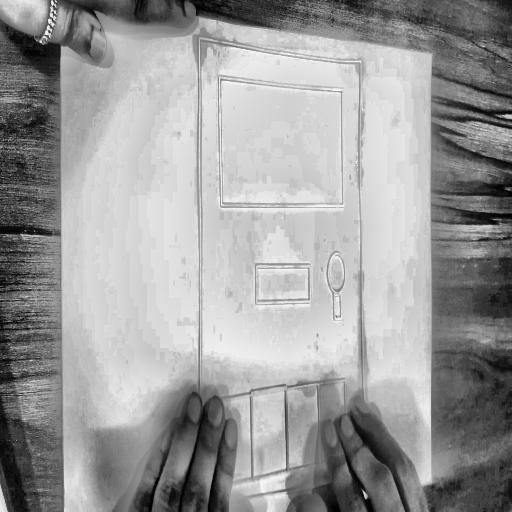bottom_right: (430, 476, 434, 484)
door: (194, 31, 369, 512)
top_left: (57, 0, 64, 12)
top_right: (430, 51, 435, 60)
